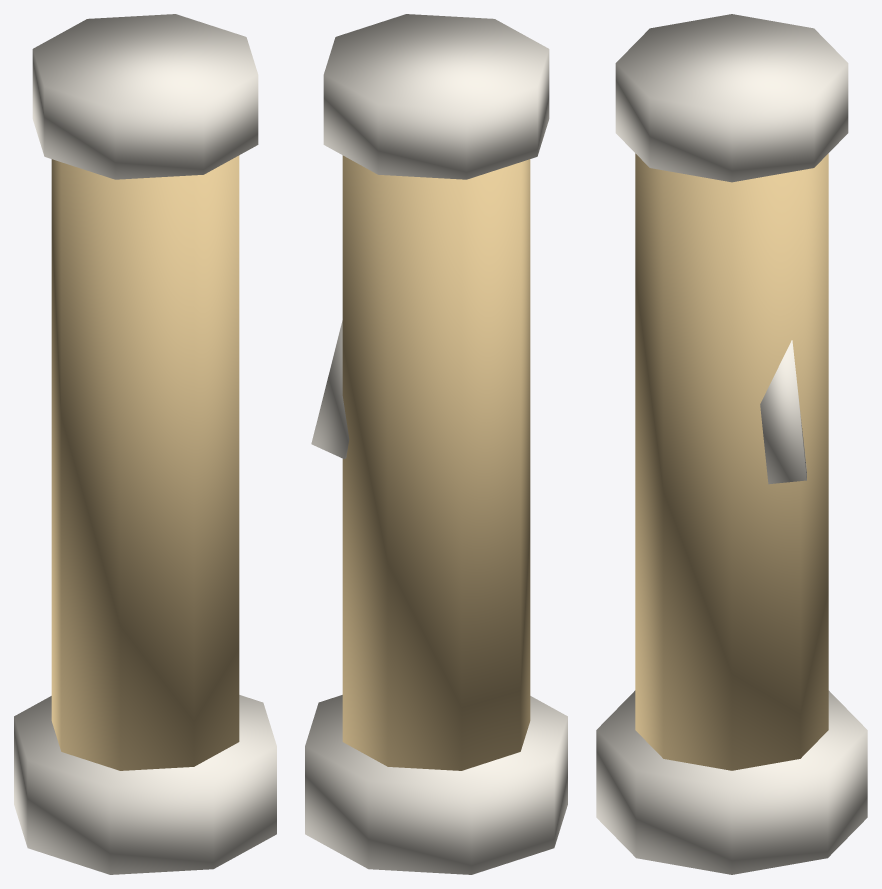
File: sandstone_pillar.glb
3 renders of one model, left to right at view 1: azimuth 30°, elevation 25°; view 2: azimuth 150°, elevation 25°; view 3: azimuth 270°, elevation 25°, orthographic.
Parts seen in each view (by area): view 1: pillar_body, pillar_top, pillar_base; view 2: pillar_body, pillar_top, pillar_base, chip; view 3: pillar_body, pillar_top, pillar_base, chip.
Boxes of the visible parts, x1,y1,x2,y2 form: pillar_body: (51, 155, 239, 770); pillar_top: (32, 14, 258, 179); pillar_base: (14, 695, 276, 874); pillar_body: (342, 155, 530, 770); pillar_top: (323, 14, 549, 179); pillar_base: (305, 695, 567, 874); chip: (311, 320, 349, 459); pillar_body: (635, 153, 828, 770); pillar_top: (615, 14, 848, 182); pillar_base: (596, 690, 867, 874); chip: (760, 340, 806, 484).
Bounding box in the file's own units: 0.28 × 0.86 × 0.28.
